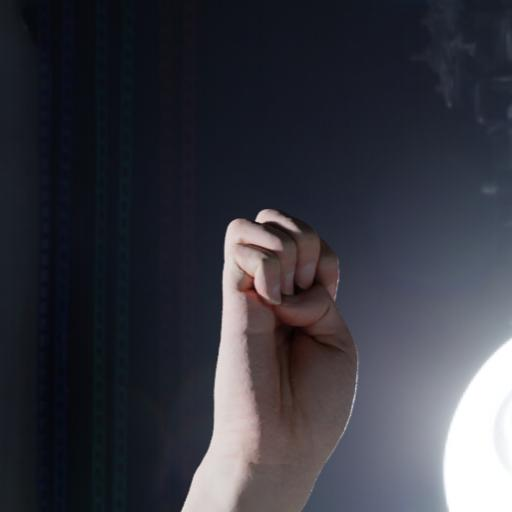E: (196, 198, 382, 478)
